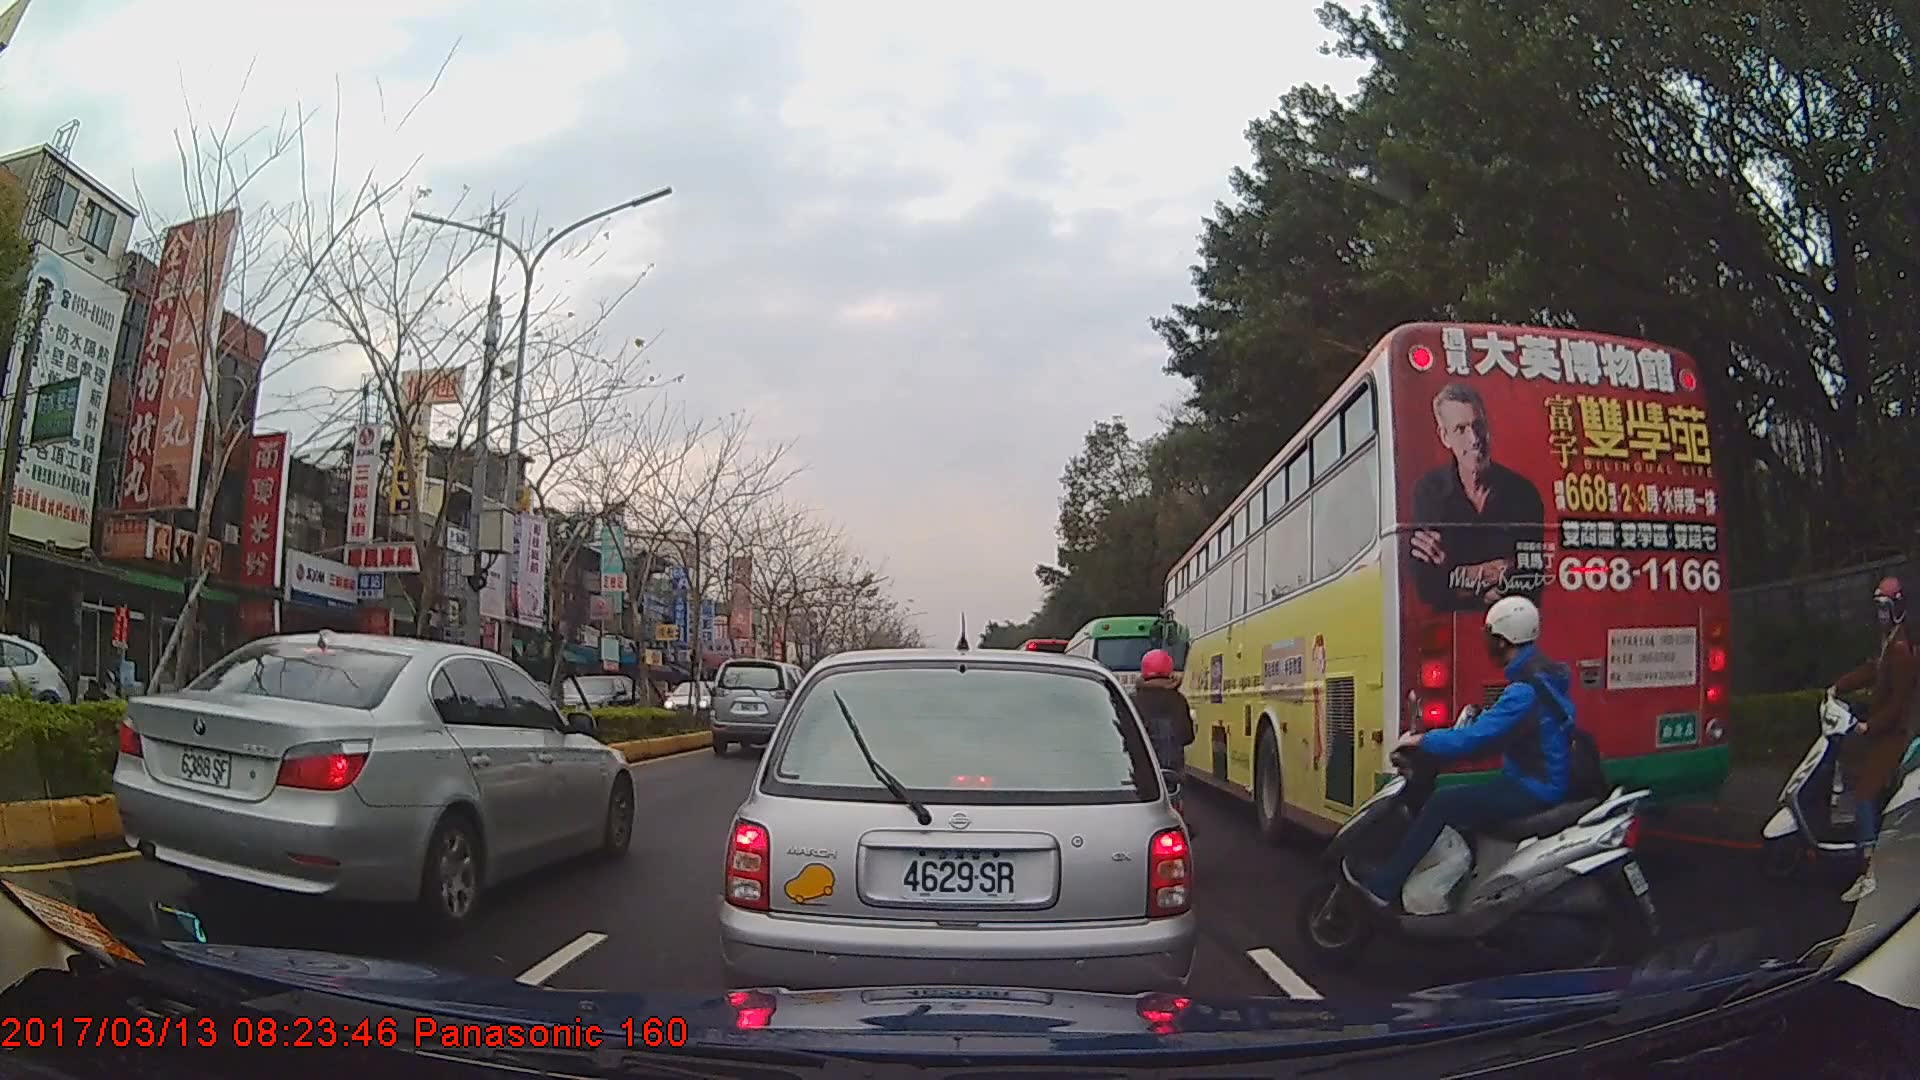rider: (1288, 599, 1667, 975), (1766, 572, 1916, 897), (1115, 646, 1201, 852)
vehicle: (1160, 320, 1727, 854), (716, 646, 1195, 1031), (108, 624, 633, 932), (1060, 615, 1187, 758), (710, 657, 819, 755), (536, 672, 646, 730)
